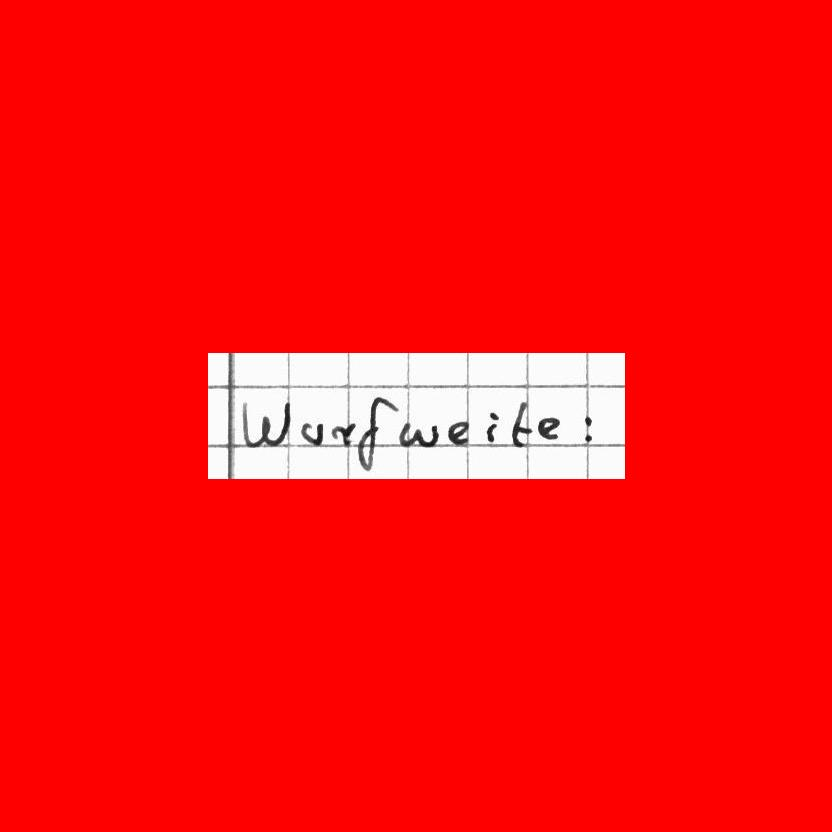Char: (354, 393, 394, 472), (240, 398, 289, 447), (399, 420, 437, 450), (509, 400, 530, 448), (329, 422, 355, 449), (535, 414, 562, 439), (484, 408, 502, 443), (447, 421, 471, 447), (301, 420, 325, 445), (579, 414, 597, 443)
